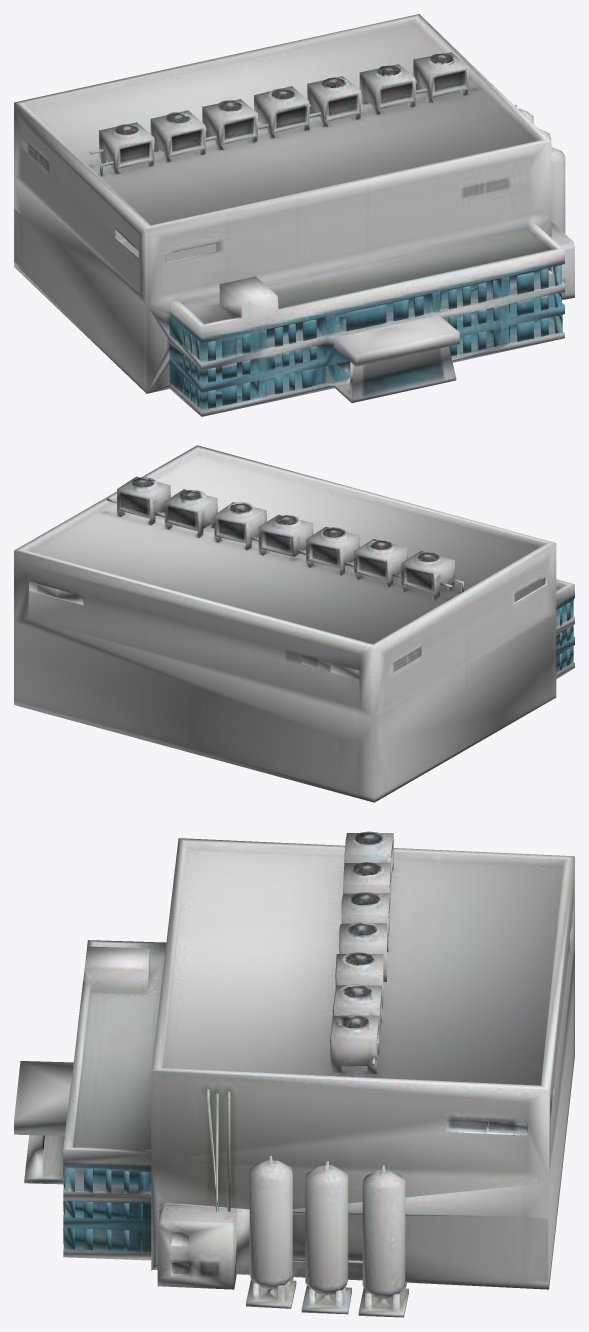
Rendered from chip.glb.
3 renders of one model, top to bottom at view 1: azimuth 30°, elevation 25°; view 2: azimuth 150°, elevation 25°; view 3: azimuth 270°, elevation 25°, orthographic. The views are drawn at different scales.
Visible parts, largest first — view 1: chip; view 2: chip; view 3: chip.
Boxes of the visible parts, x1,y1,x2,y2 form: chip: [14, 14, 574, 416]; chip: [14, 445, 574, 802]; chip: [14, 831, 574, 1317].
Size of the model in its own units: 1 by 0.3973 by 0.8474.
1 material, 1 textured.
